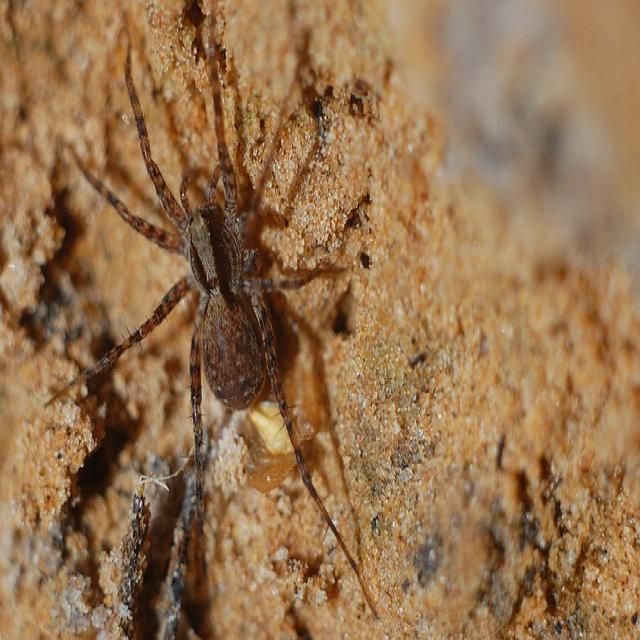spyder: (70, 6, 376, 615)
